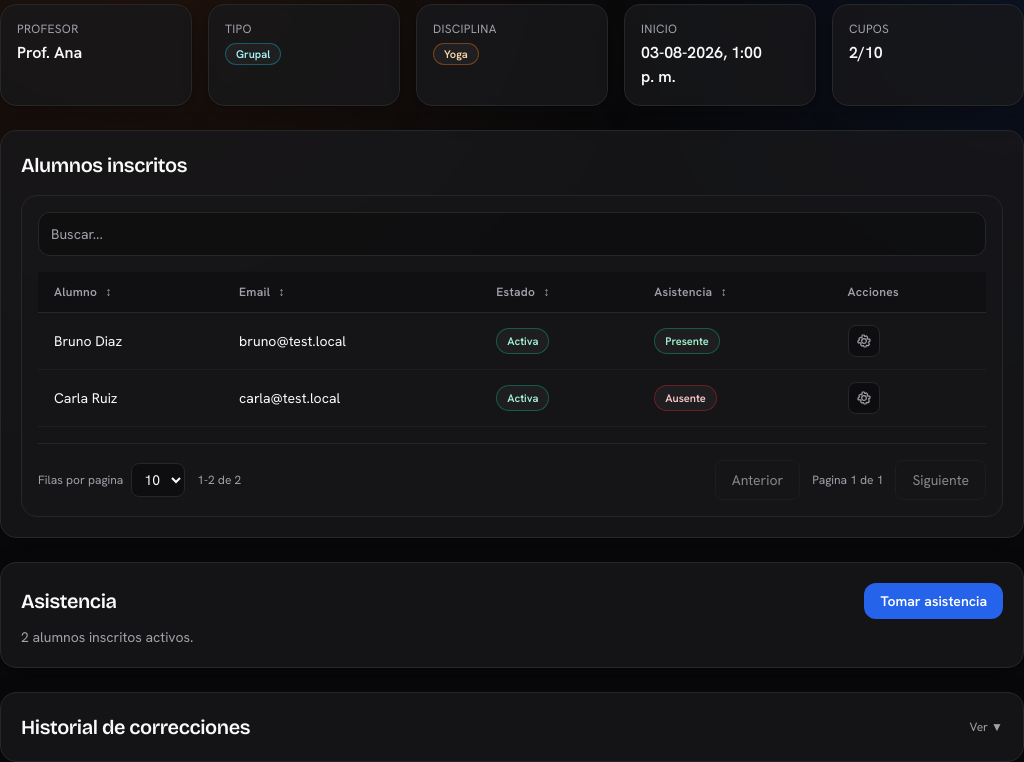
Test case: GymAdminClassDetailPage — historial de correcciones (#10.2) › con historial vacío muestra el texto de "sin correcciones"
(page scrolled)
expect the button "Tomar asistencia" is enabled: met, box left=864, top=583, right=1003, bottom=619
Click the button "Historial de correcciones Ver ▼": (136, 727) left=21, top=713, right=1003, bottom=741
(page scrolled)
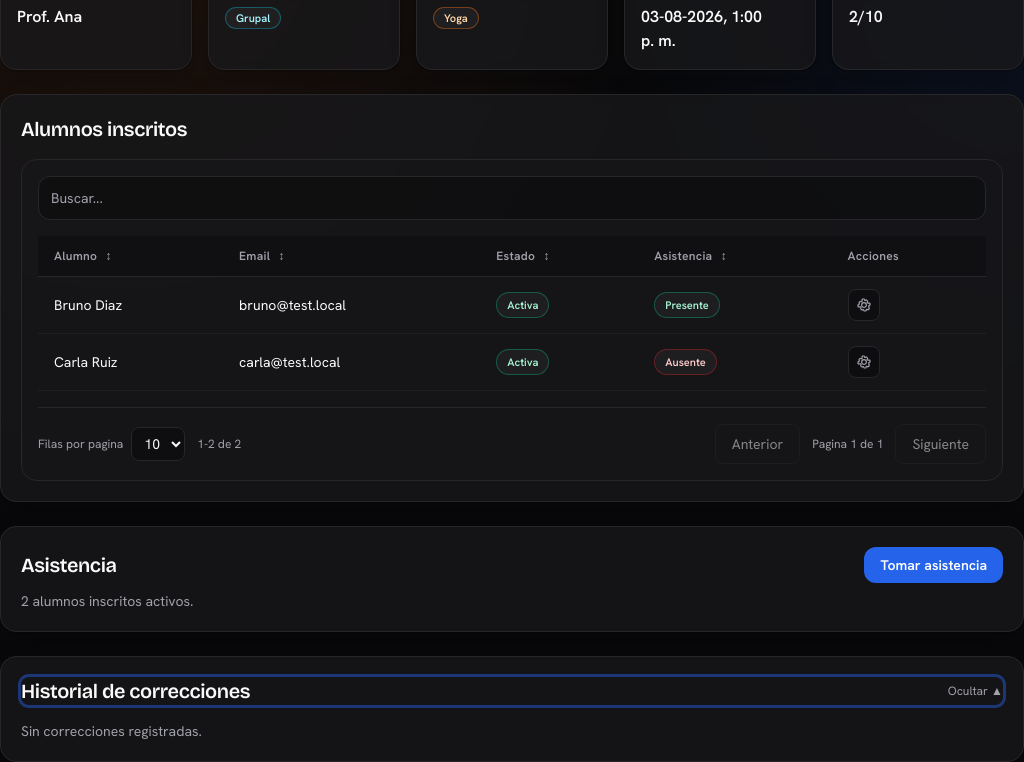
expect the text "Sin correcciones registradas." is shown: met, box left=21, top=722, right=202, bottom=740
